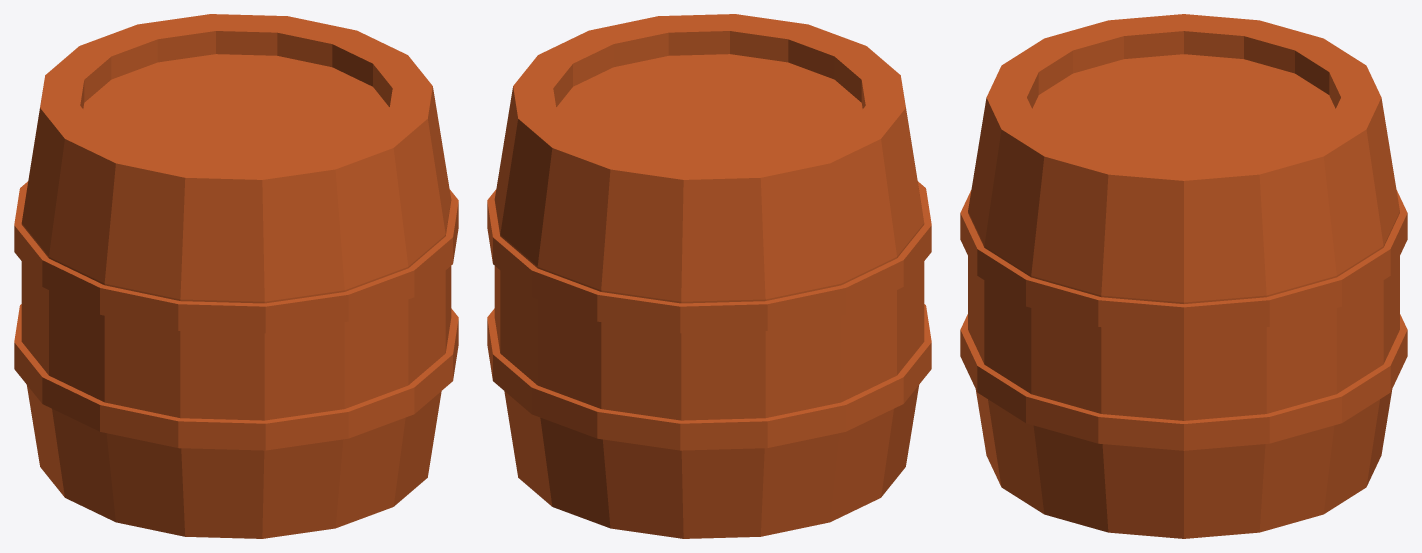
File: New Barrel.fbx
3 views of the same model, side by side, from view 1: azimuth 30°, elevation 25°; view 2: azimuth 150°, elevation 25°; view 3: azimuth 270°, elevation 25° (orthographic).
Visible parts, largest first — view 1: barrel; view 2: barrel; view 3: barrel.
Boxes of the visible parts, bbox=[...] form: barrel: bbox=[14, 14, 458, 538]; barrel: bbox=[487, 14, 931, 538]; barrel: bbox=[960, 14, 1407, 538].
Bounding box in the file's own units: 374 × 330 × 374.
